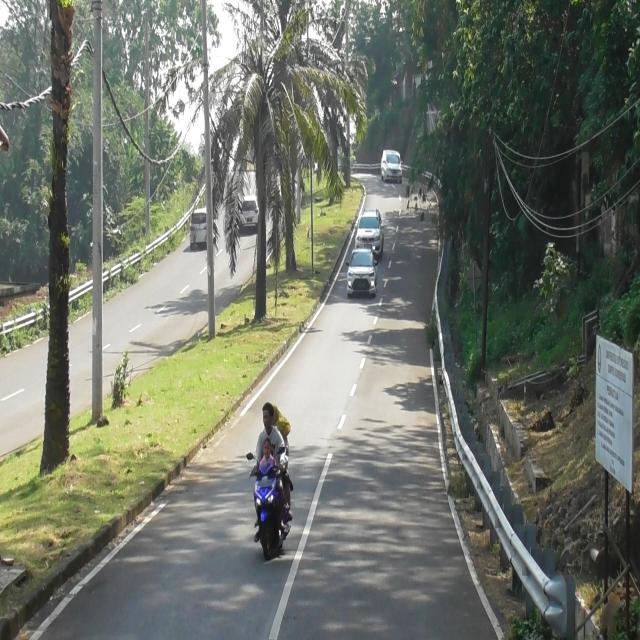motorcycle: (247, 449, 288, 558)
person: (254, 402, 284, 468), (267, 404, 291, 453), (258, 439, 279, 471)
rider_region: (247, 402, 296, 559)
